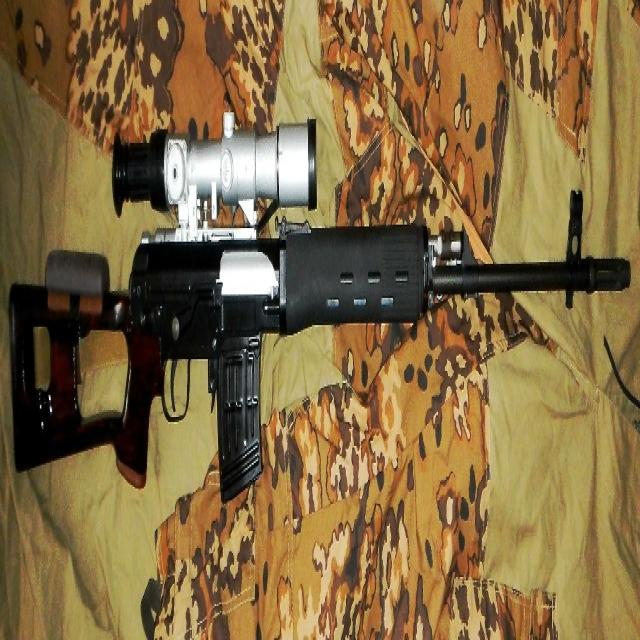firearm: (9, 118, 631, 504)
